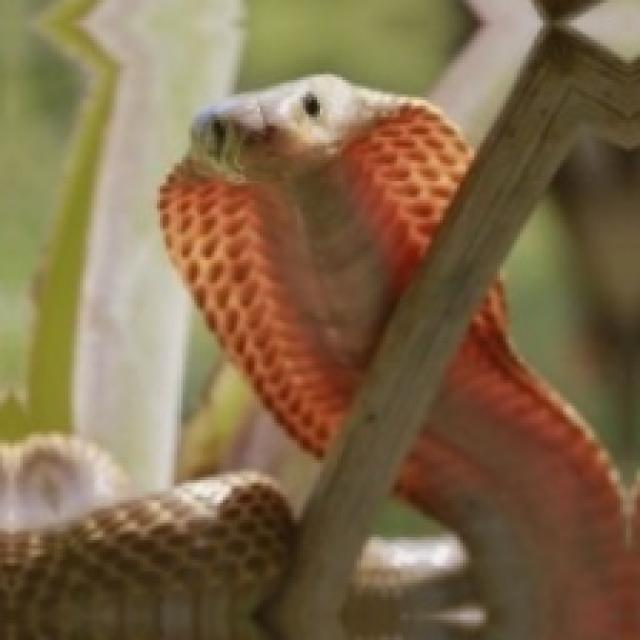philippine cobra: (160, 74, 469, 454), (160, 74, 469, 451), (394, 283, 637, 637), (0, 474, 291, 637)
